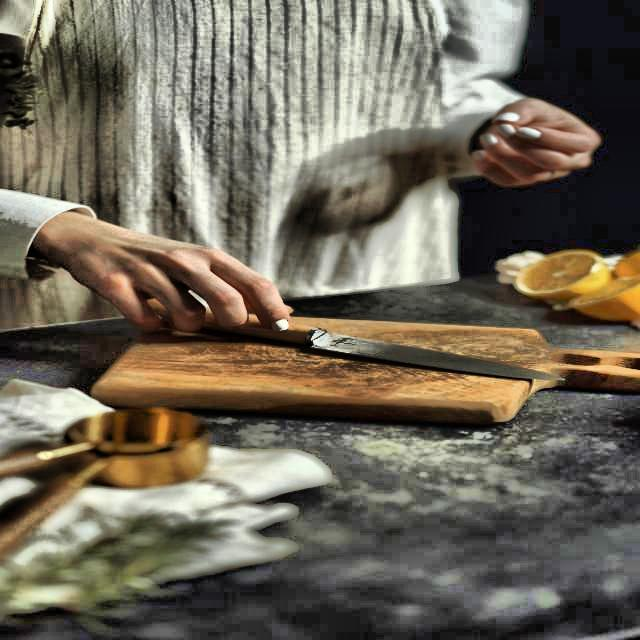knife: (153, 308, 575, 387)
